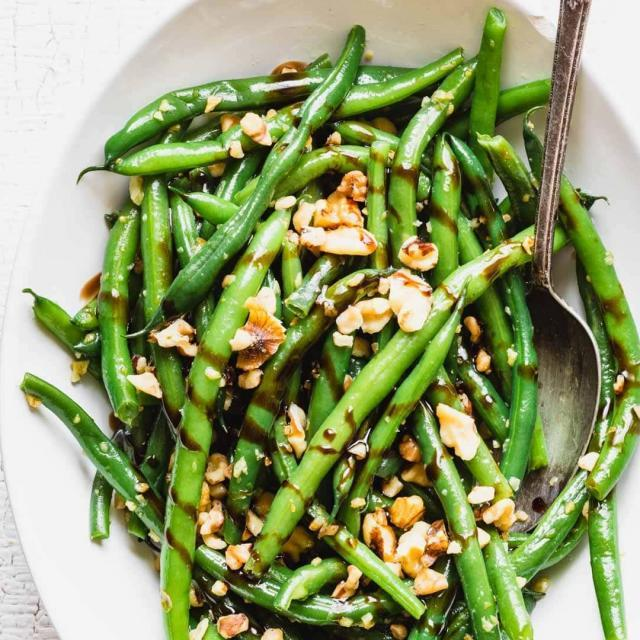Beans: (19, 7, 639, 639)
